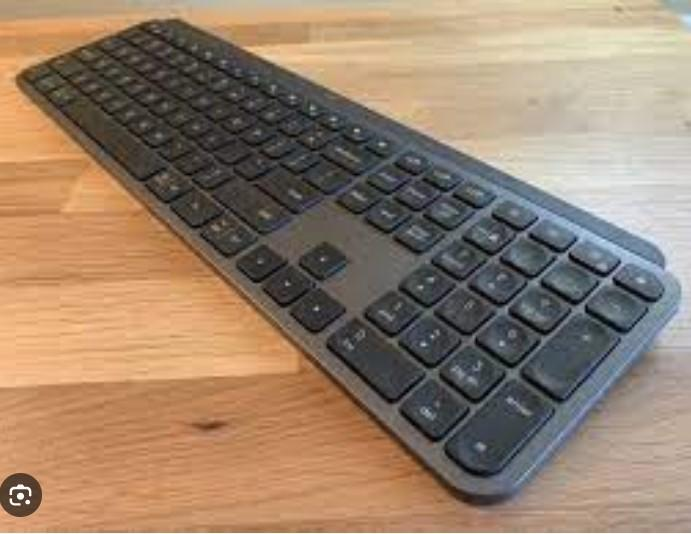Keyboard: (16, 18, 681, 507)
